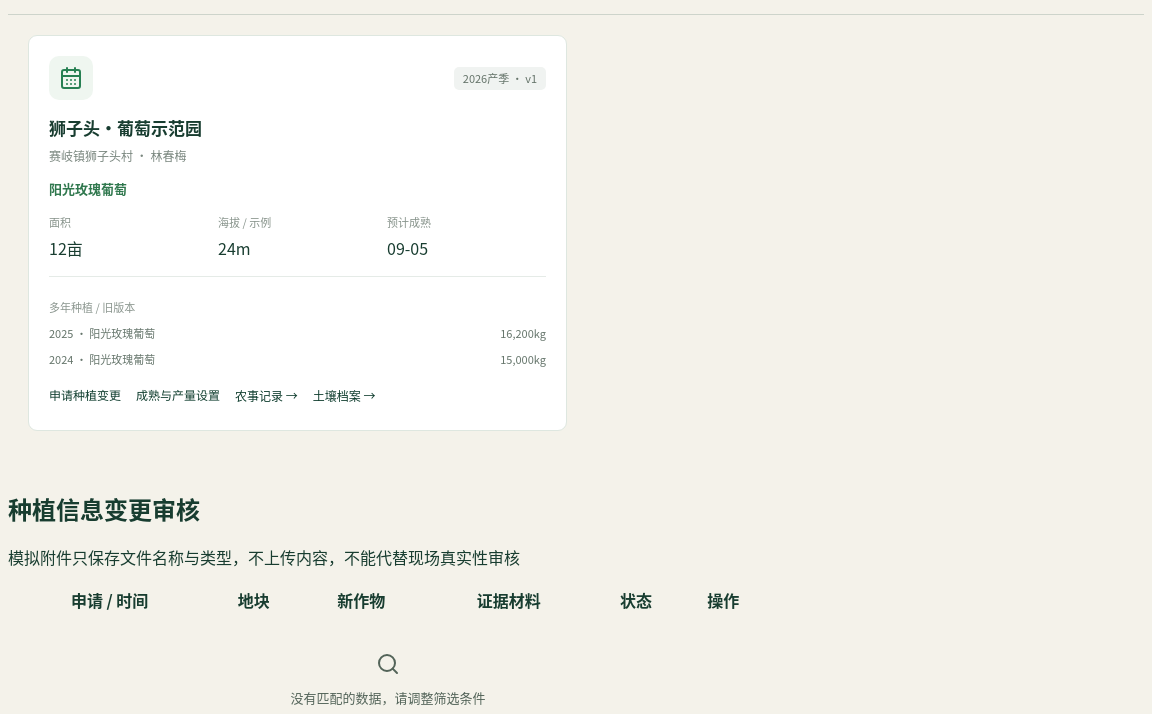
新增管理页面交互 › 成熟预测保存后更新地块显示，不能把旧成熟期沿用到新作物
The image size is (1152, 714).
(page scrolled)
Click the button "成熟与产量设置" at (178, 396), box [136,382,220,410]
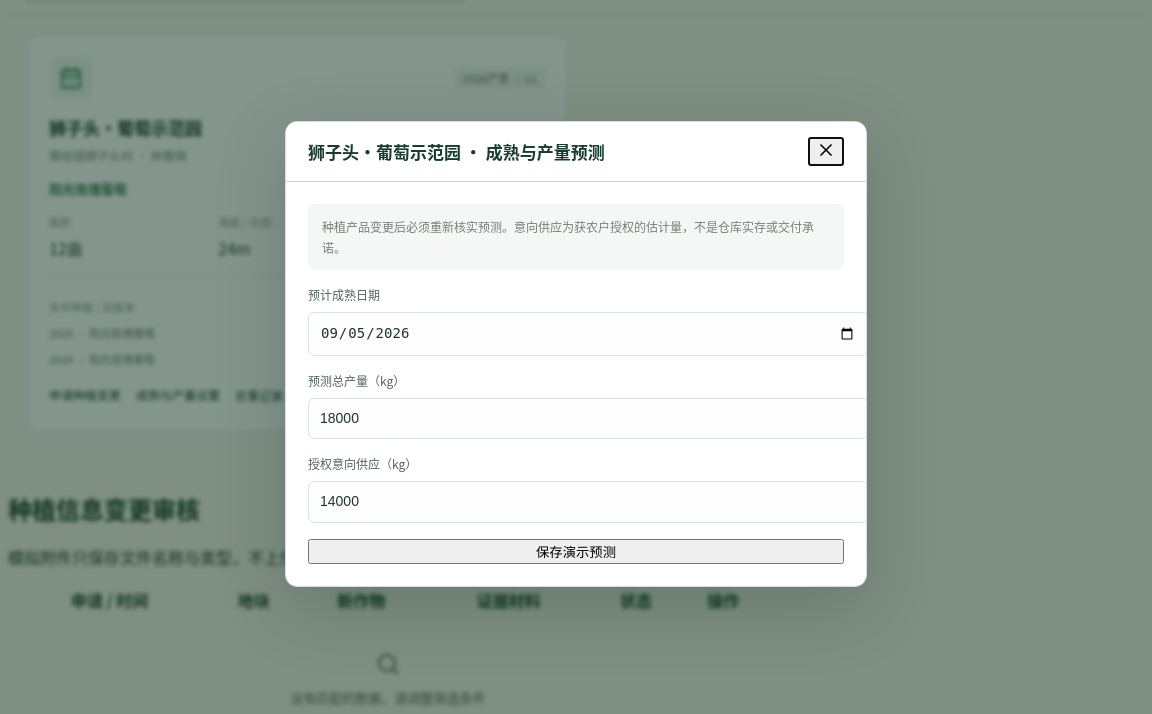
Type "2026-09-10" into the date field labelled "预计成熟日期" at (588, 334), box [308,312,868,356]
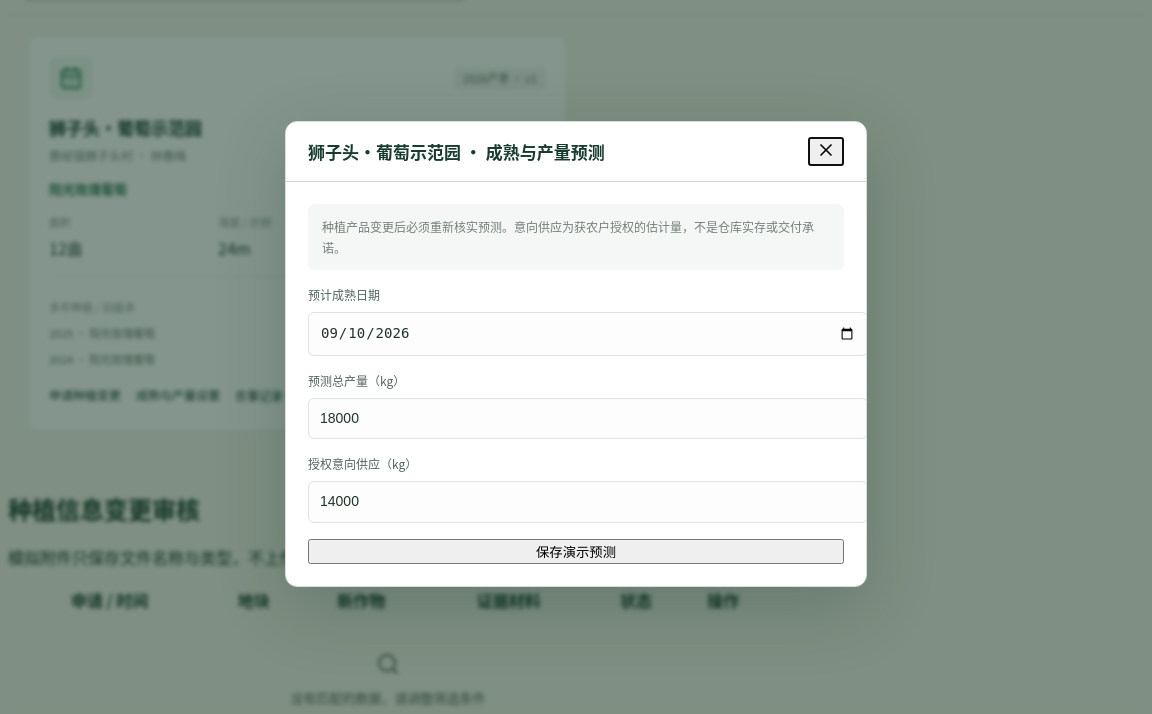
Click the button "保存演示预测" at (576, 551), box [308,539,844,564]
(page scrolled)
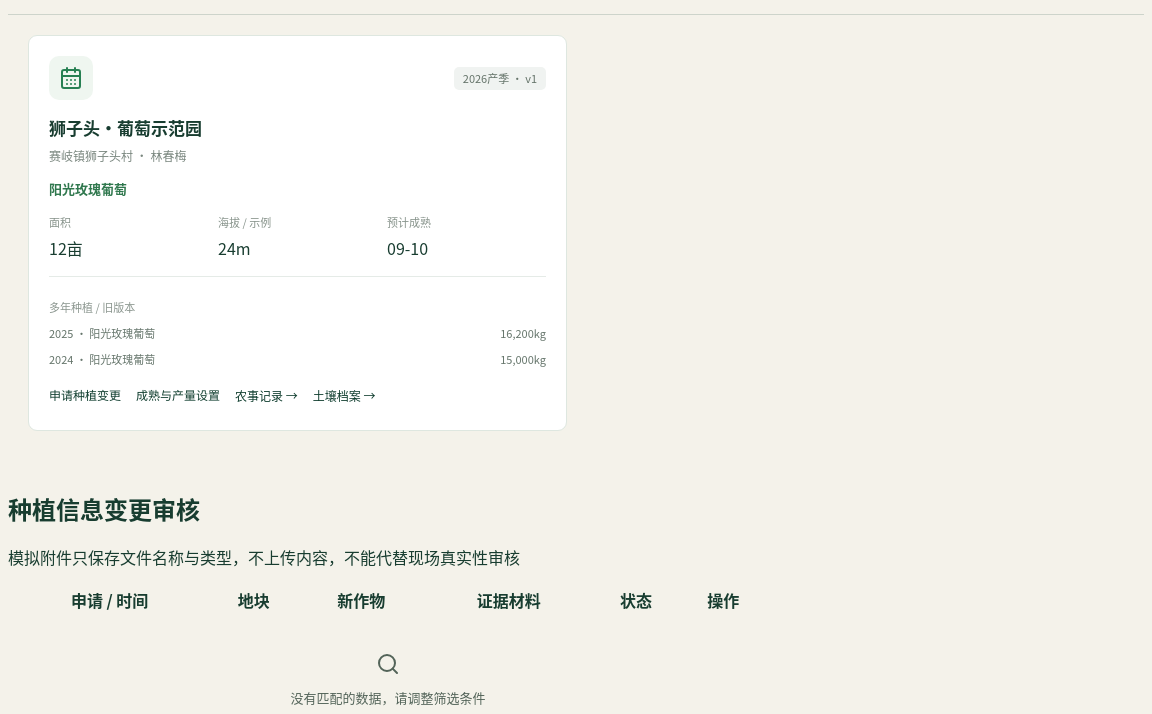
Now the text "09-10" is shown, box [387,236,428,260]
